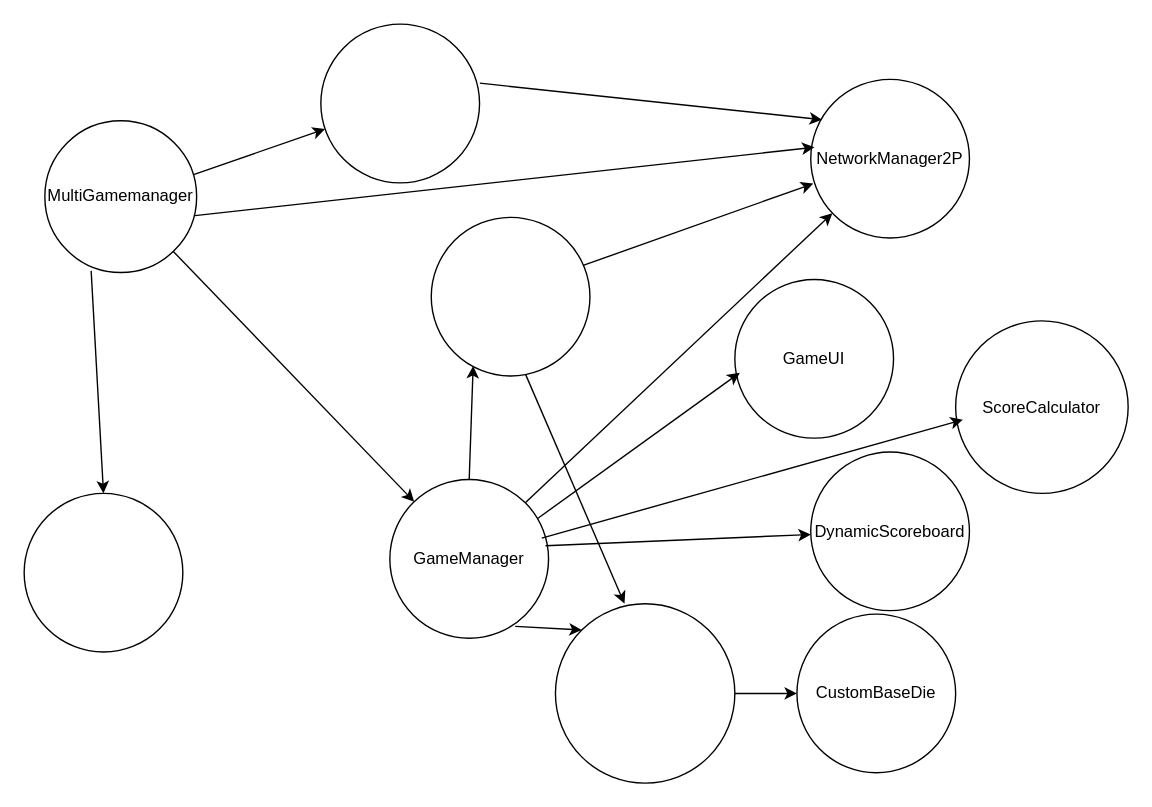
Some shapes in this 1152 by 807 pixel diagram are drawn without their labels. The shapes that lost their labels are listed below. From the top down, each one's centre as x and y in pixels, then its label:
(399,103): GameSettings
(510,296): PlayerManager
(103,572): CustomizationMenu
(644,692): DynamicDiceContainer
